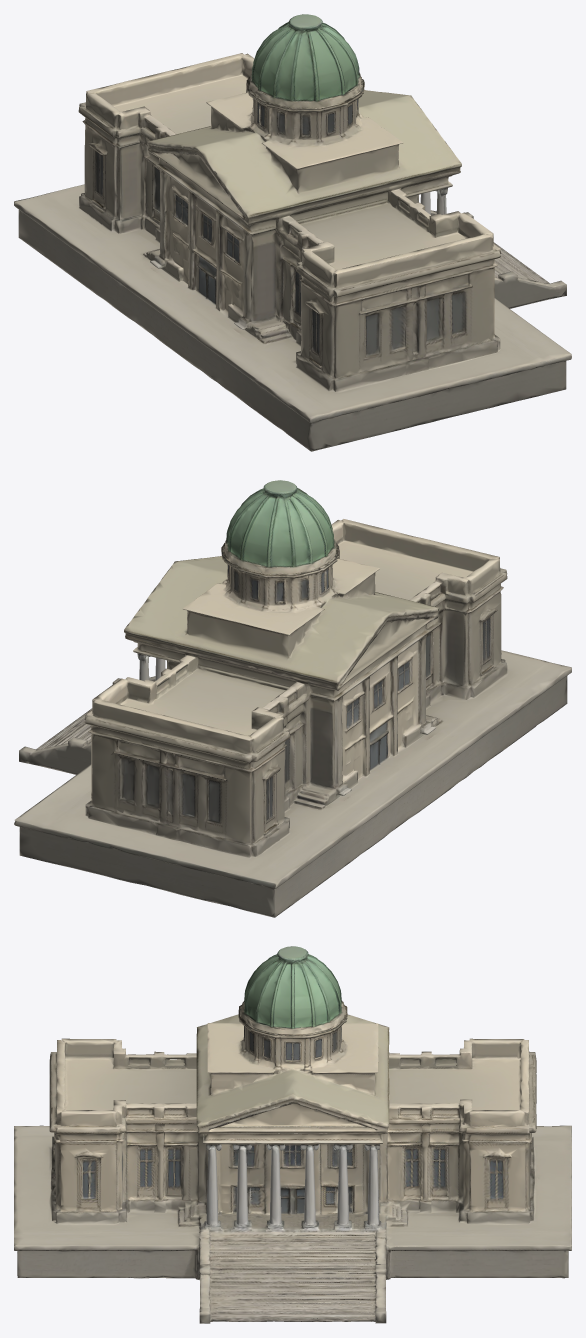
The model's file is obra_camara.glb.
3 views of the same model, one above another, from view 1: azimuth 30°, elevation 25°; view 2: azimuth 150°, elevation 25°; view 3: azimuth 270°, elevation 25° (orthographic). The views are drawn at different scales.
Parts seen in each view (by area): view 1: tripo_node_ae5dea8d-7bef-4499-8e07-8b8a4869a7af; view 2: tripo_node_ae5dea8d-7bef-4499-8e07-8b8a4869a7af; view 3: tripo_node_ae5dea8d-7bef-4499-8e07-8b8a4869a7af.
Boxes of the visible parts, left/top/right/bottom form: tripo_node_ae5dea8d-7bef-4499-8e07-8b8a4869a7af: left=14, top=14, right=571, bottom=451; tripo_node_ae5dea8d-7bef-4499-8e07-8b8a4869a7af: left=14, top=480, right=571, bottom=917; tripo_node_ae5dea8d-7bef-4499-8e07-8b8a4869a7af: left=14, top=946, right=571, bottom=1323.
Bounding box in the file's own units: 0.6934 × 0.5417 × 1.
Materials: 1 (1 with a texture image).
